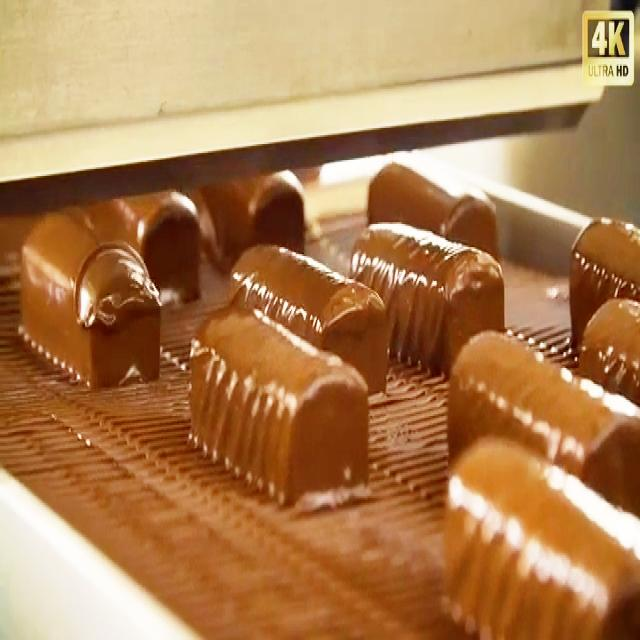Choco: (445, 315, 640, 530), (442, 433, 638, 634), (185, 300, 370, 505), (230, 233, 397, 415), (347, 224, 504, 395), (18, 204, 162, 390), (367, 151, 507, 289), (569, 200, 640, 368), (208, 170, 312, 270), (123, 195, 208, 311), (577, 278, 640, 408)
